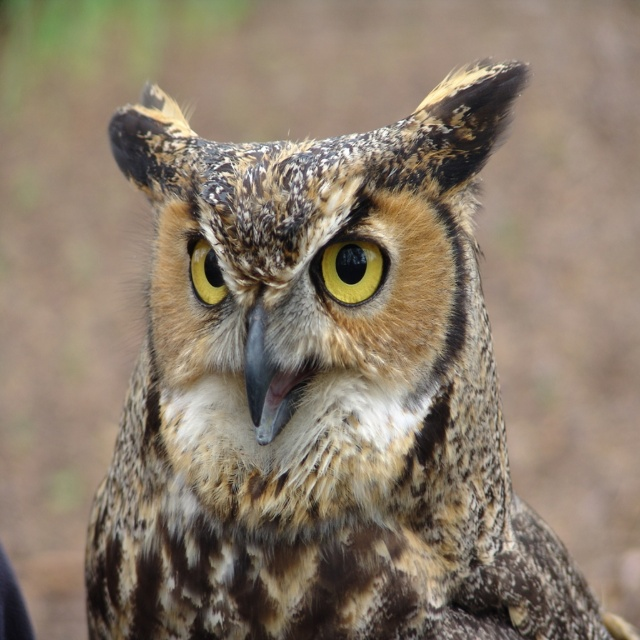Owl: (83, 52, 635, 639)
